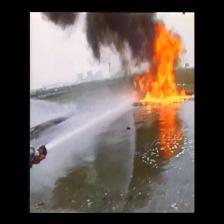fire: (153, 34, 182, 92)
smoke: (88, 10, 155, 50)
